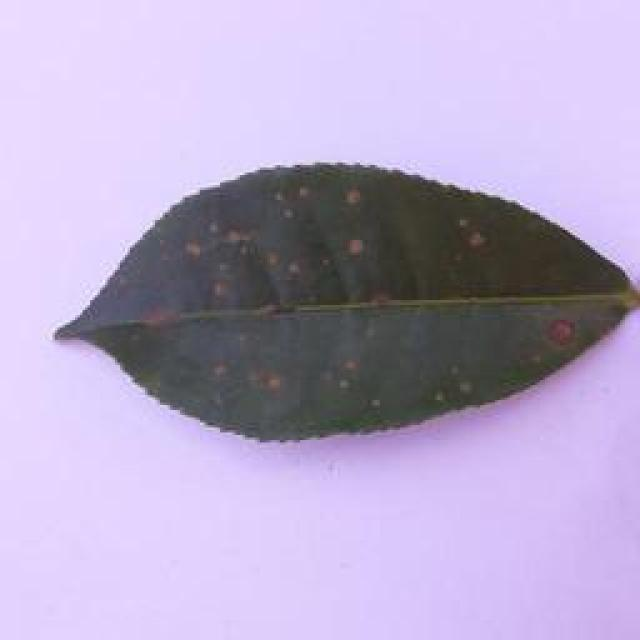Algal Leaf Spot: (52, 150, 640, 452)
